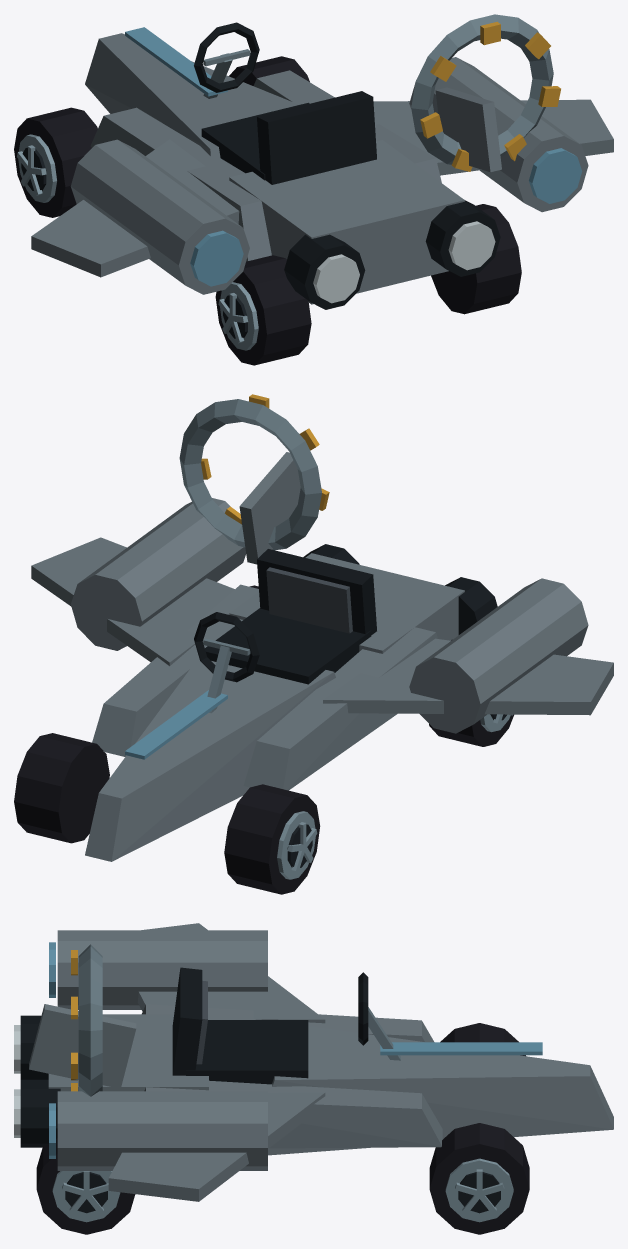
The model's file is kart.glb.
The picture shows the model from 3 angles, top to bottom: view 1: azimuth 30°, elevation 25°; view 2: azimuth 150°, elevation 25°; view 3: azimuth 270°, elevation 25°; orthographic projection. The views are drawn at different scales.
Visible parts, largest first — view 1: identity-starfighter-starfighter-flight-planform, identity-starfighter-motif-engine-pods, identity-starfighter-driver-cockpit, identity-starfighter-motif-gate-ring, wheel-rear-left, wheel-front-left, wheel-rear-right, wheel-front-right; view 2: identity-starfighter-starfighter-flight-planform, identity-starfighter-motif-engine-pods, identity-starfighter-driver-cockpit, identity-starfighter-motif-gate-ring, wheel-front-left, wheel-front-right, wheel-rear-left; view 3: identity-starfighter-starfighter-flight-planform, identity-starfighter-motif-engine-pods, identity-starfighter-driver-cockpit, wheel-front-right, wheel-rear-right, identity-starfighter-motif-gate-ring, wheel-front-left.
Part boxes in pixels (left/top/right/bottom): identity-starfighter-starfighter-flight-planform: left=31, top=27, right=613, bottom=309; identity-starfighter-motif-engine-pods: left=70, top=57, right=588, bottom=294; identity-starfighter-driver-cockpit: left=194, top=22, right=376, bottom=184; identity-starfighter-motif-gate-ring: left=411, top=14, right=560, bottom=171; wheel-rear-left: left=215, top=255, right=311, bottom=365; wheel-front-left: left=14, top=107, right=97, bottom=217; wheel-rear-right: left=431, top=204, right=521, bottom=314; wheel-front-right: left=229, top=56, right=309, bottom=85; identity-starfighter-starfighter-flight-planform: left=31, top=452, right=613, bottom=861; identity-starfighter-motif-engine-pods: left=70, top=498, right=588, bottom=733; identity-starfighter-driver-cockpit: left=194, top=549, right=376, bottom=713; identity-starfighter-motif-gate-ring: left=179, top=394, right=329, bottom=550; wheel-front-left: left=224, top=784, right=320, bottom=894; wheel-front-right: left=14, top=733, right=109, bottom=843; wheel-rear-left: left=429, top=639, right=513, bottom=746; identity-starfighter-starfighter-flight-planform: left=14, top=923, right=613, bottom=1201; identity-starfighter-motif-engine-pods: left=49, top=930, right=267, bottom=1170; identity-starfighter-driver-cockpit: left=172, top=967, right=400, bottom=1084; wheel-front-right: left=429, top=1123, right=529, bottom=1234; wheel-rear-right: left=36, top=1138, right=135, bottom=1234; identity-starfighter-motif-gate-ring: left=71, top=944, right=102, bottom=1096; wheel-front-left: left=440, top=1023, right=525, bottom=1056.
Bounding box in the file's own units: 3.14 × 1.52 × 2.99.
